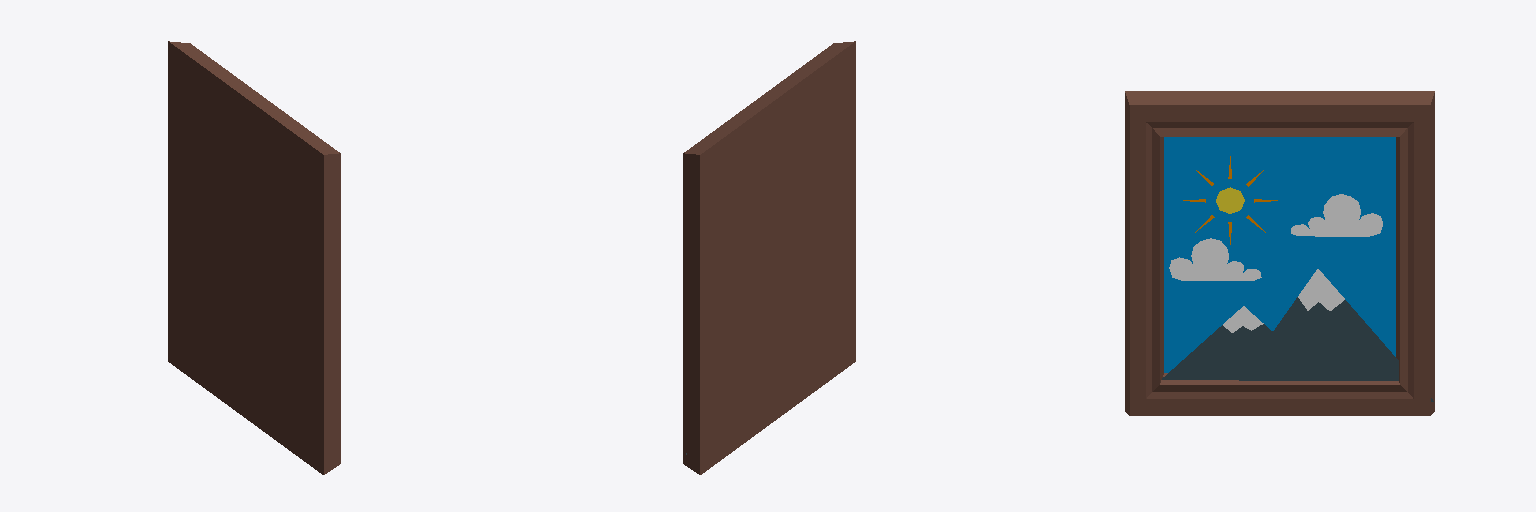
The model's file is Wall_Painting_01.obj.
3 views of the same model, side by side, from view 1: azimuth 30°, elevation 25°; view 2: azimuth 150°, elevation 25°; view 3: azimuth 270°, elevation 25° (orthographic).
Visible parts, largest first — view 1: Wall_Painting_01_Plane.002; view 2: Wall_Painting_01_Plane.002; view 3: Wall_Painting_01_Plane.002.
Part boxes in pixels (bbox=[...]): Wall_Painting_01_Plane.002: bbox=[168, 41, 340, 474]; Wall_Painting_01_Plane.002: bbox=[683, 41, 855, 474]; Wall_Painting_01_Plane.002: bbox=[1125, 91, 1434, 415].
Bounding box in the file's own units: 0.6554 × 10.04 × 8.8.